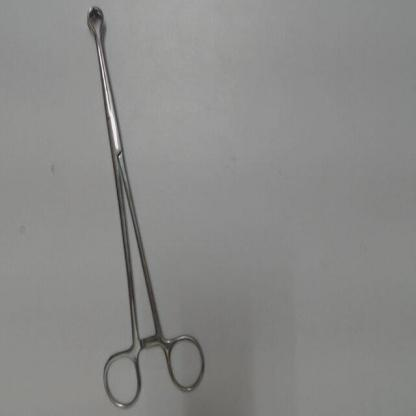8 Babcock Tissue Forceps: (81, 1, 211, 412)
